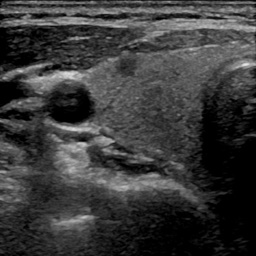mass: (115, 49, 139, 75)
